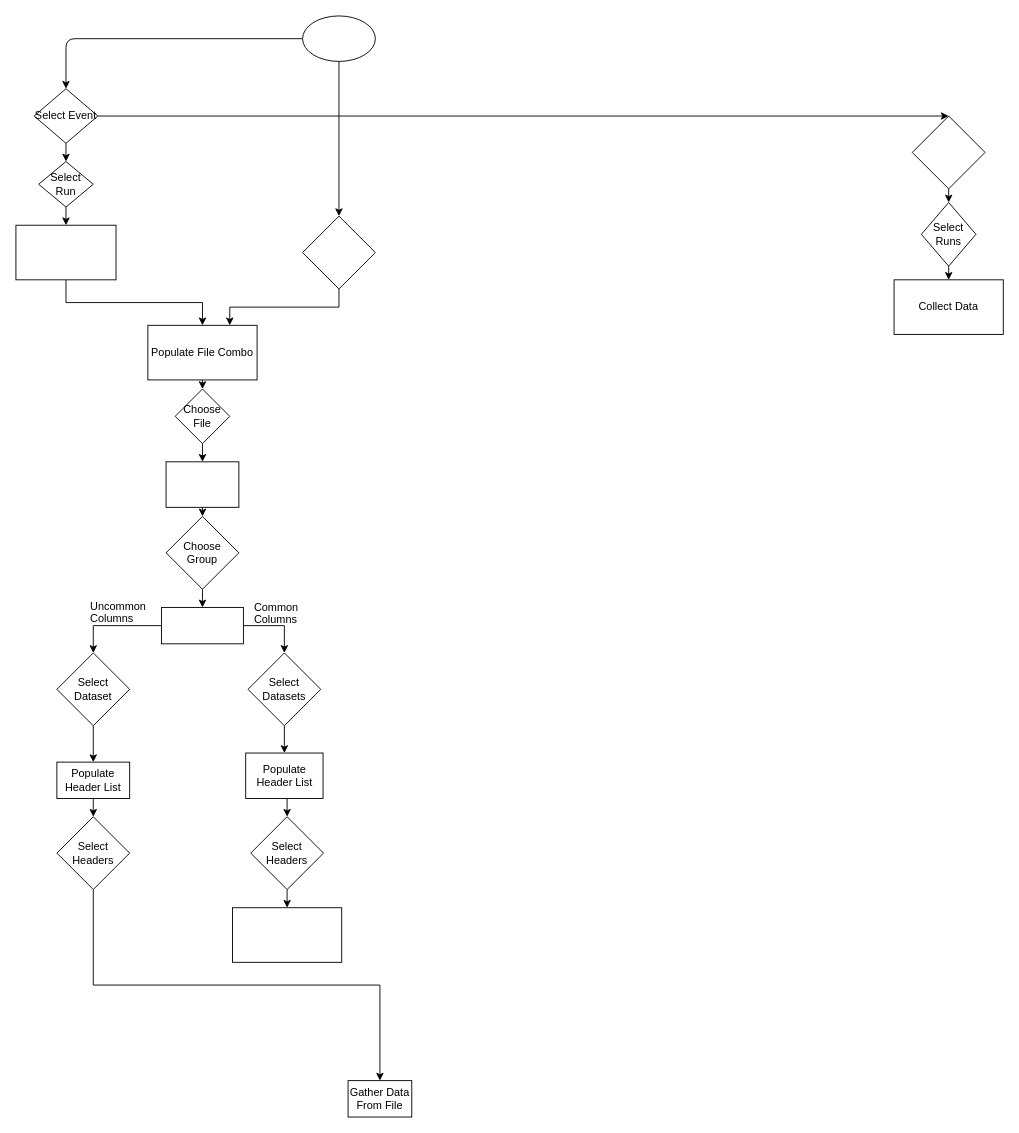
Image size: 1019x1133. Some labels were removed from this diagram. The shapes that lost their labels are listed below. From the top down, each one's box as (x1, y1, x2, y2) in pixels, then its label:
(302, 15, 375, 61): Open Phobos
(911, 115, 985, 189): Select Standard Query
(15, 224, 116, 280): Scan Run Directory For H5, pkl, and xlsx files
(302, 215, 375, 289): Choose Single File
(165, 461, 239, 507): Populate Group Combo
(161, 607, 243, 644): Populate Dataset List
(232, 907, 342, 962): Gather Data From Files
